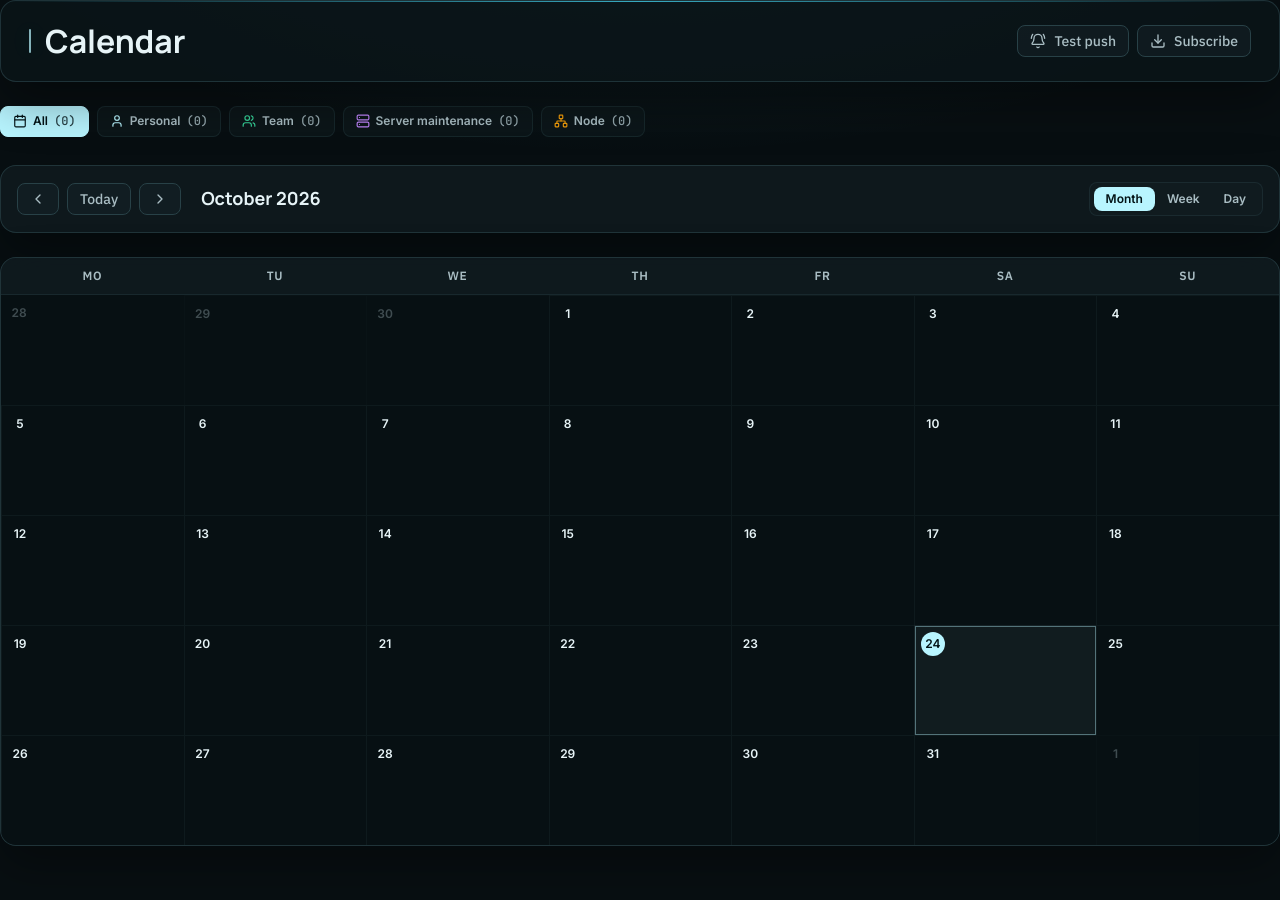
Test: Calendar Page Component › zeigt in der englischen Oberfläche keine festen deutschen Texte
The image size is (1280, 900).
Expected: the text "Mo" is shown, [82, 268, 102, 283]
Expected: the text "Tu" is shown, [267, 268, 283, 283]
Click the button "Week": click(1183, 199) [1155, 187, 1212, 211]
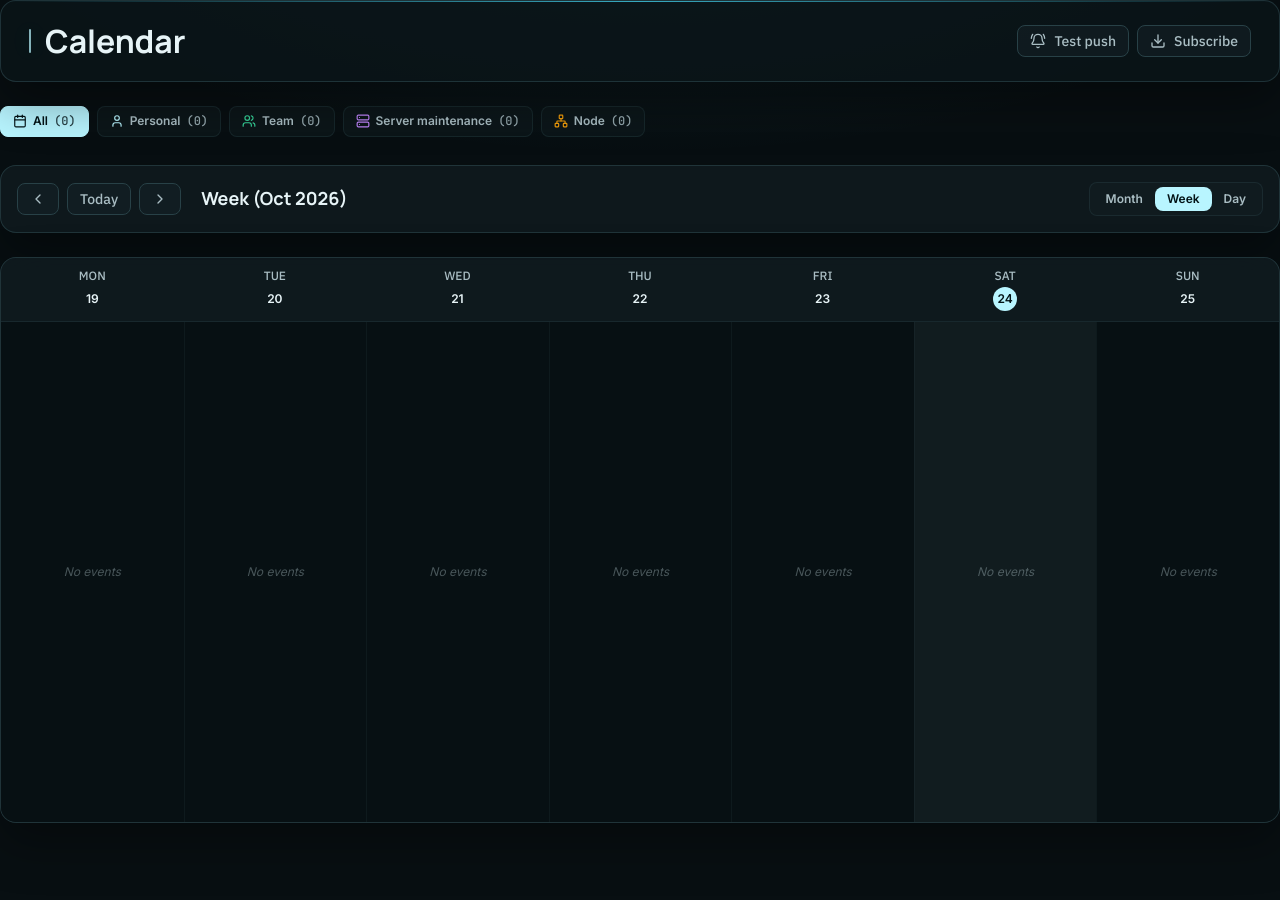
Expected: the button "Today" is shown, [67, 183, 131, 215]
Result: the 1st text "No events" is shown at [64, 564, 121, 579]
Click the button "Day": click(1235, 199) [1212, 187, 1258, 211]
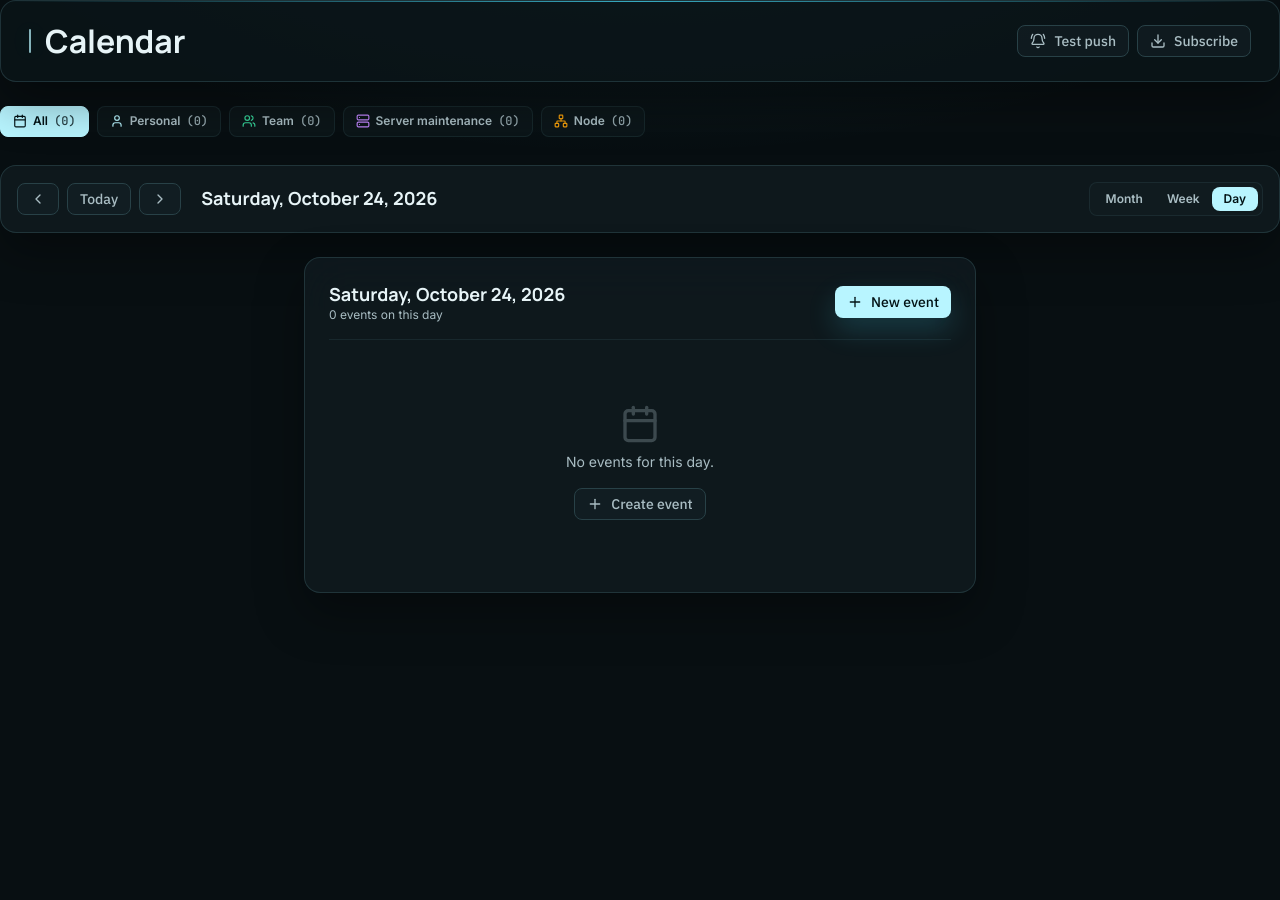
Result: the text "0 events on this day" is shown at [329, 307, 443, 322]
Result: the button "New event" is shown at [835, 286, 951, 318]
Result: the button "Create event" is shown at [574, 488, 706, 520]
